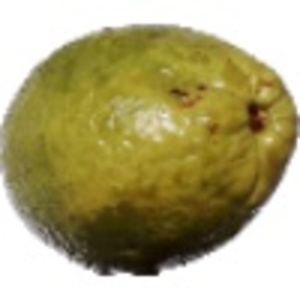goiaba: (3, 21, 297, 275)
